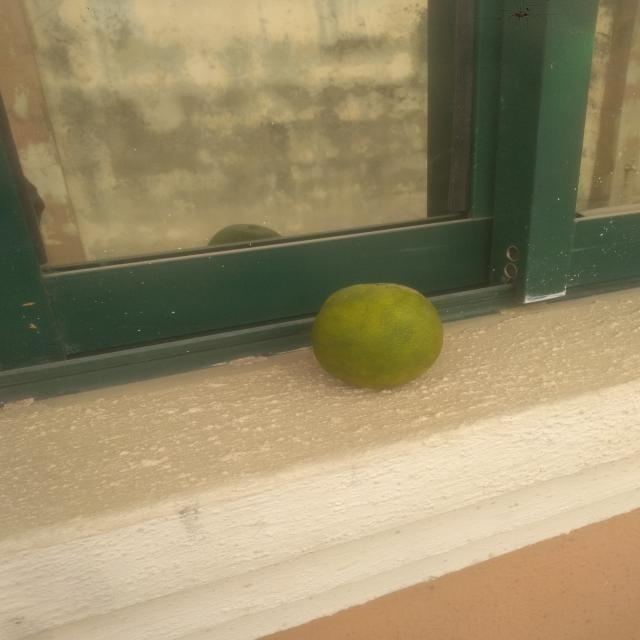agrume: (303, 272, 465, 405)
